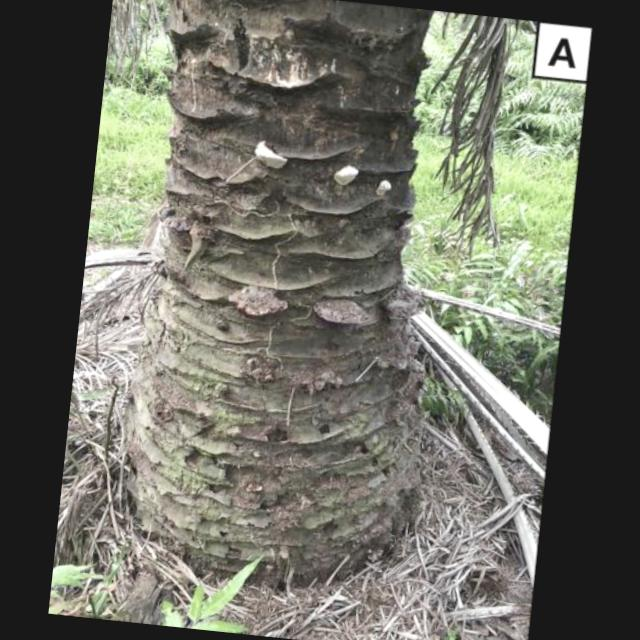ganoderma: (225, 283, 291, 322), (311, 295, 371, 327), (252, 138, 291, 171), (155, 203, 193, 235)
primordium: (333, 164, 360, 189), (375, 178, 395, 198)
